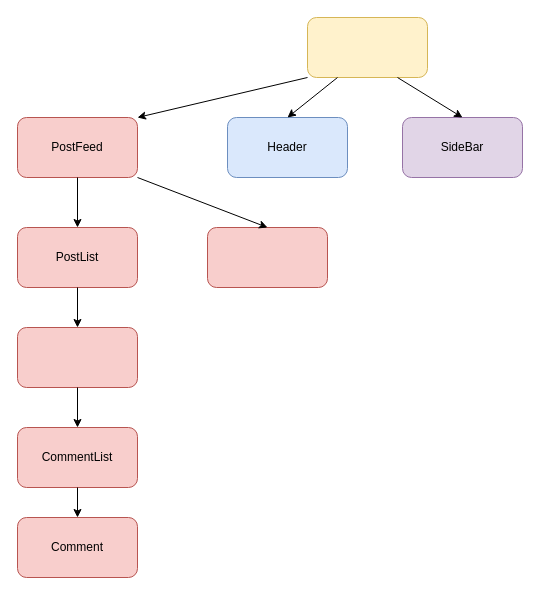
Image size: 540x595. Some labels were removed from this diagram. Here are the shapes that lost their labels. From the top down, the box of each, then its label:
(306, 16, 428, 78): App
(206, 226, 328, 288): PostInput
(16, 326, 138, 388): Post
